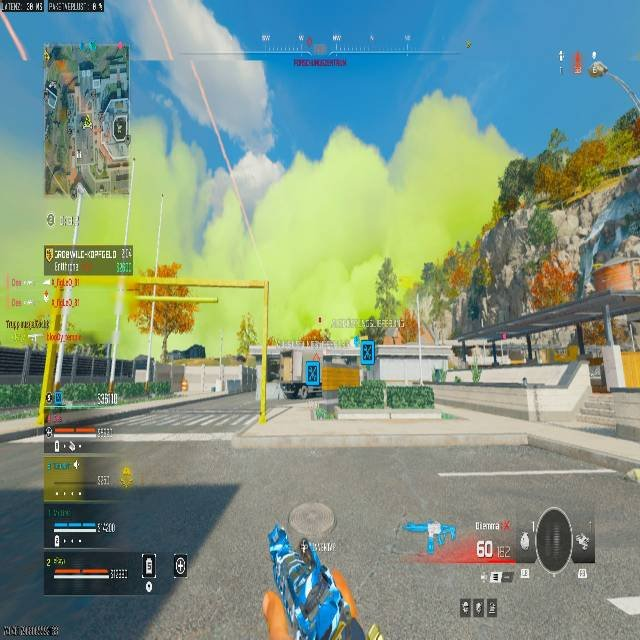player: (263, 523, 345, 640)
